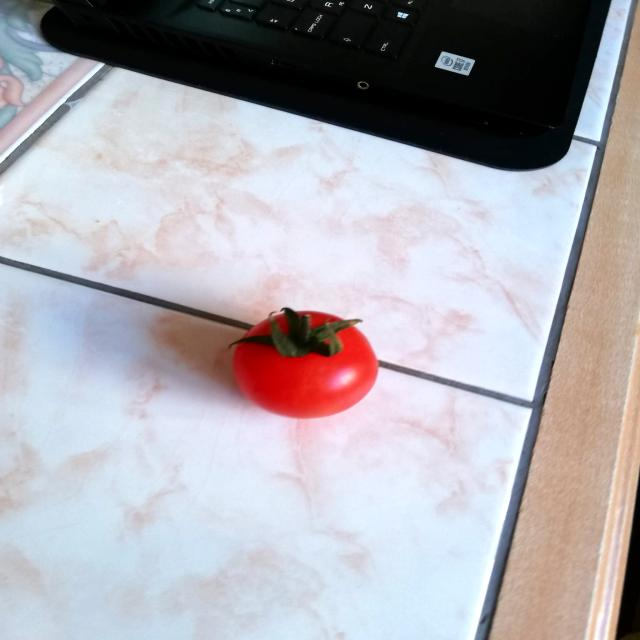tomato: (222, 301, 385, 423)
